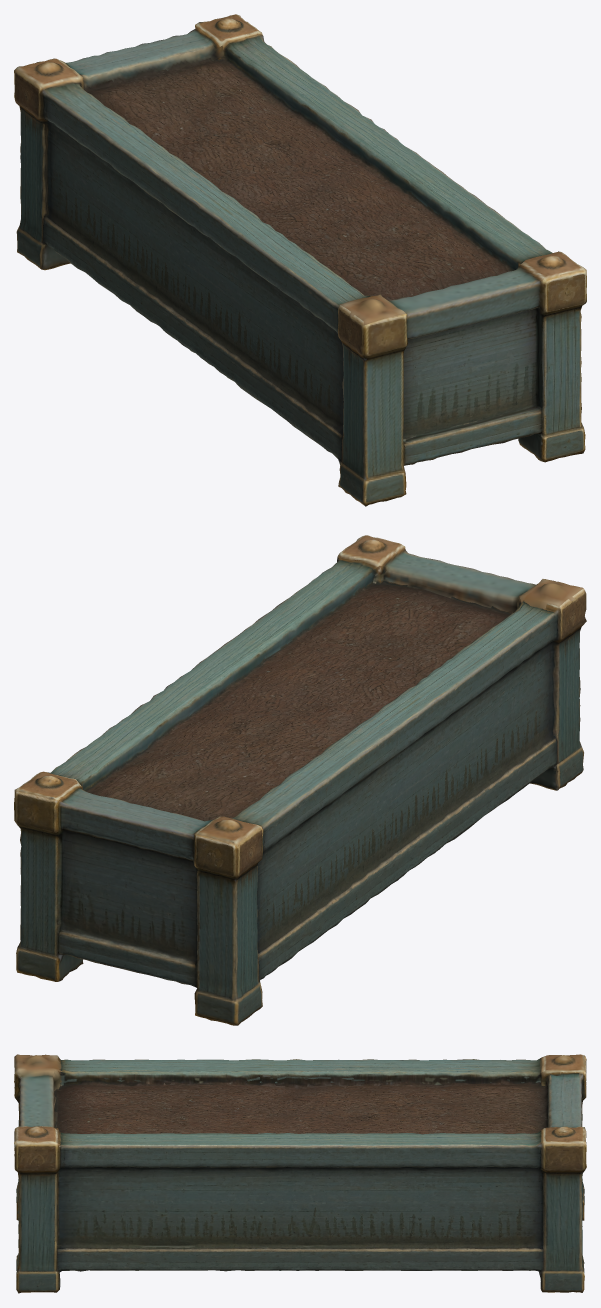
The model's file is Furn_Planter.fbx.
3 renders of one model, top to bottom at view 1: azimuth 30°, elevation 25°; view 2: azimuth 150°, elevation 25°; view 3: azimuth 270°, elevation 25°, orthographic. The views are drawn at different scales.
Visible parts, largest first — view 1: texture_mapping; view 2: texture_mapping; view 3: texture_mapping.
Part boxes in pixels (x1,y1,x2,y2): texture_mapping: (14, 14, 586, 506); texture_mapping: (14, 535, 586, 1025); texture_mapping: (14, 1054, 586, 1293).
Bounding box in the file's own units: 0.3707 × 0.9981 × 0.3043.
Materials: 1 (1 with a texture image).
